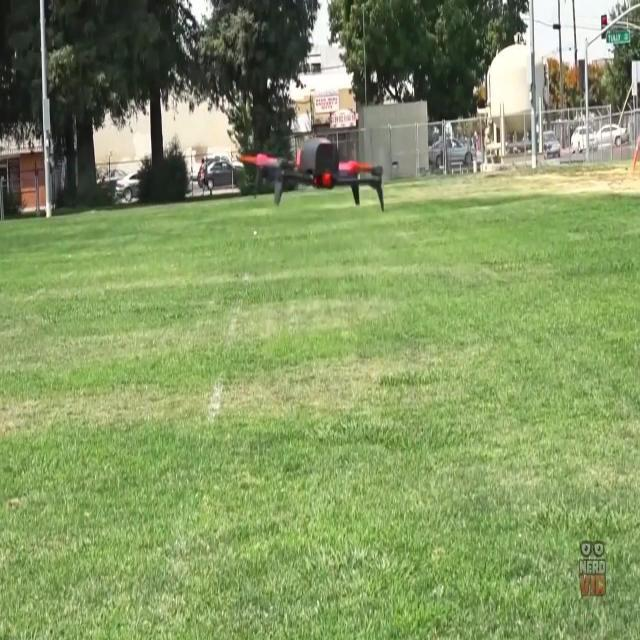drone: (234, 134, 386, 212)
